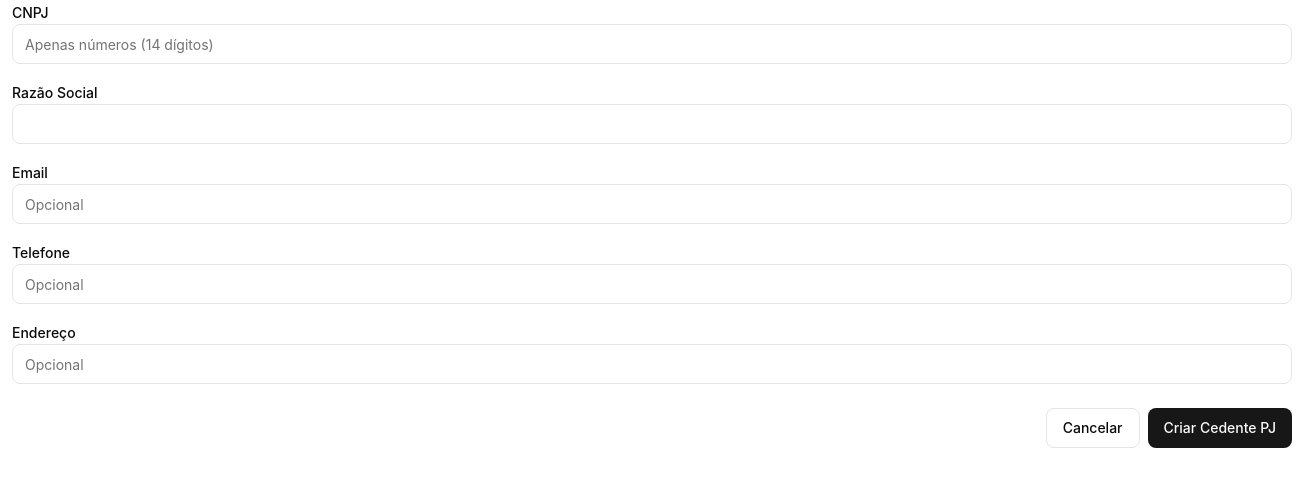
Test: CedentePjForm › shows email validation error when invalid email provided
In the field labelled "CNPJ": (652, 44) top-left (12, 24), bottom-right (1292, 64), type "11222333000181"
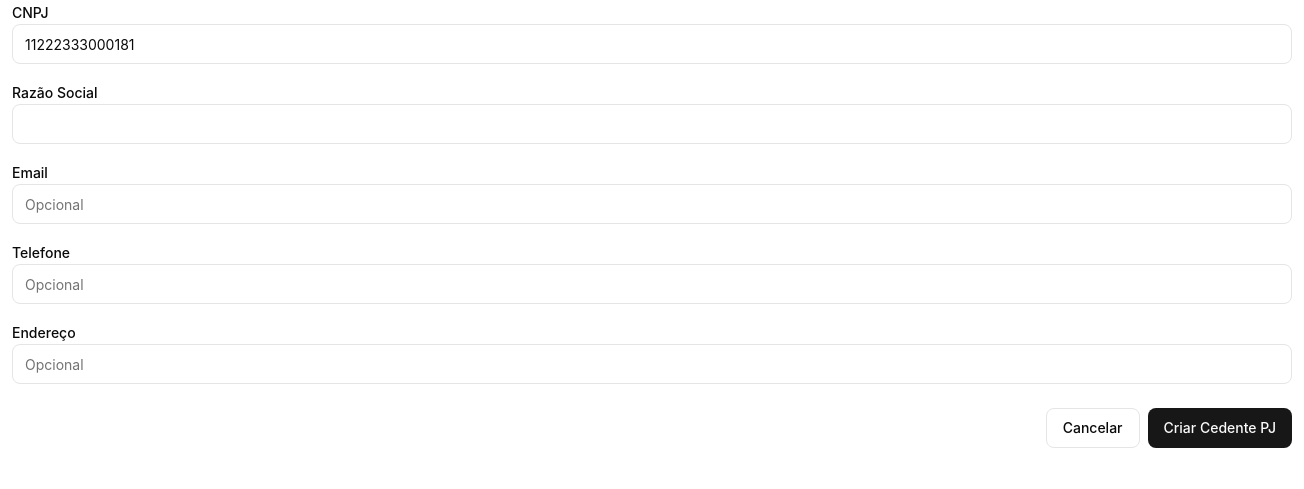
In the field labelled "Razão Social": (652, 124) top-left (12, 104), bottom-right (1292, 144), type "Empresa SA"
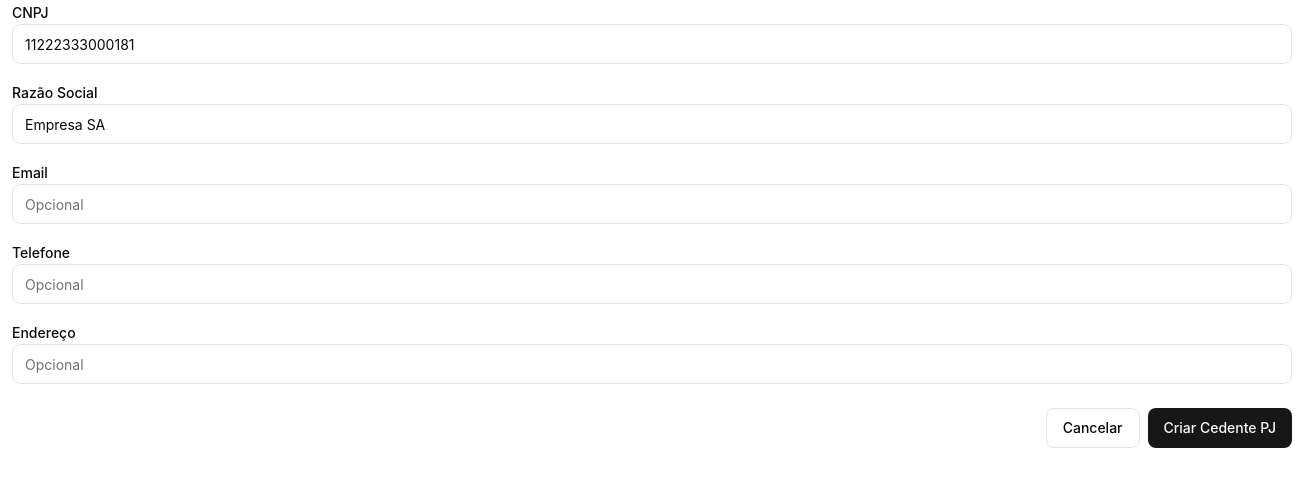
In the field labelled "Email": (652, 204) top-left (12, 184), bottom-right (1292, 224), type "not-an-email"
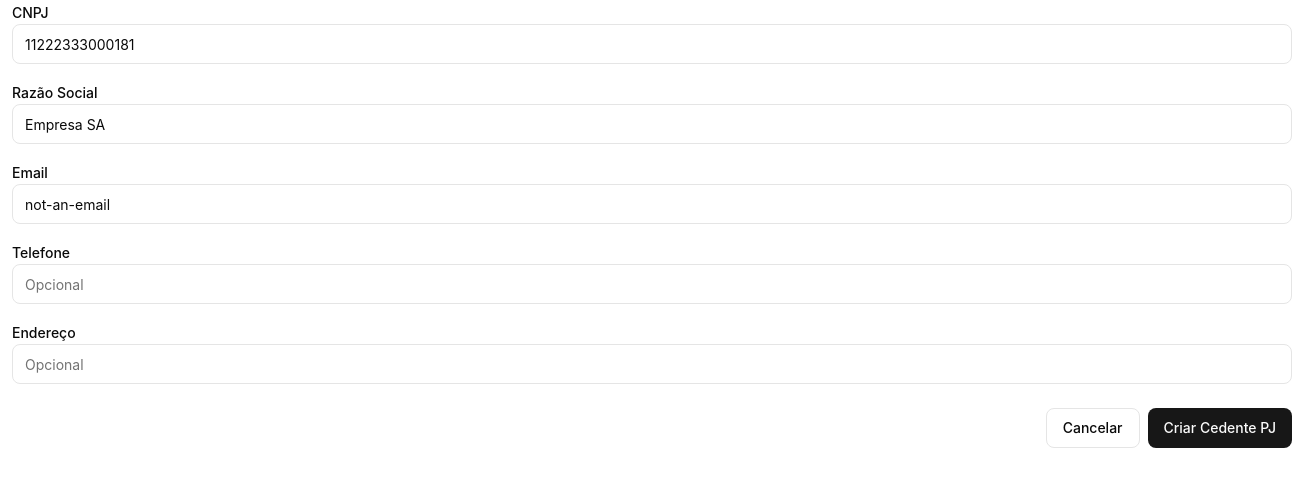
Click the button "Criar Cedente PJ": click(1220, 428) top-left (1148, 408), bottom-right (1292, 448)
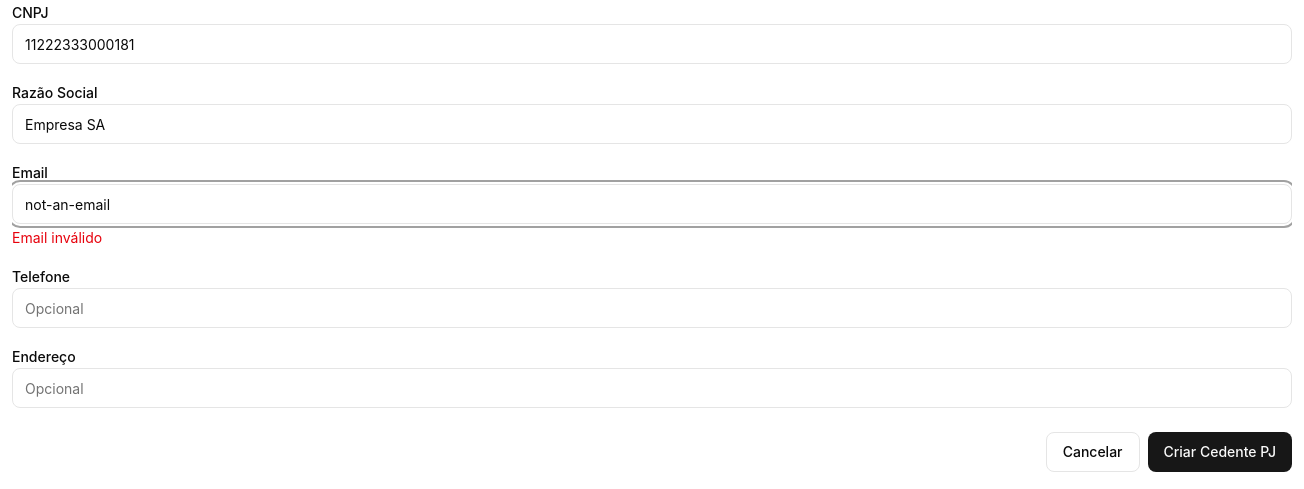
Expected: the message "Email inválido" is shown, top-left (12, 229), bottom-right (102, 246)
